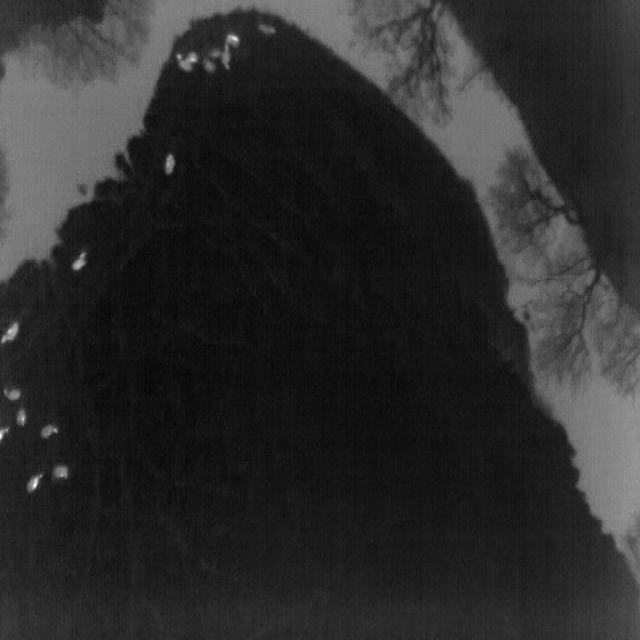deer: (1, 321, 19, 344), (26, 474, 44, 493), (70, 252, 86, 272), (177, 54, 192, 71), (164, 153, 176, 174), (221, 44, 231, 69), (54, 464, 69, 480), (40, 425, 58, 438), (2, 389, 20, 401), (258, 24, 276, 36), (226, 33, 240, 48), (16, 408, 27, 426), (0, 427, 10, 442), (203, 61, 216, 72), (185, 53, 199, 63), (208, 49, 221, 59)
